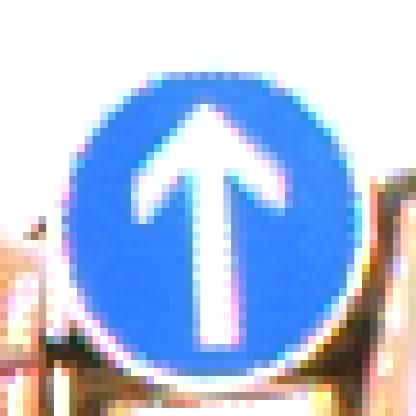AheadOnly: (39, 41, 371, 377)
